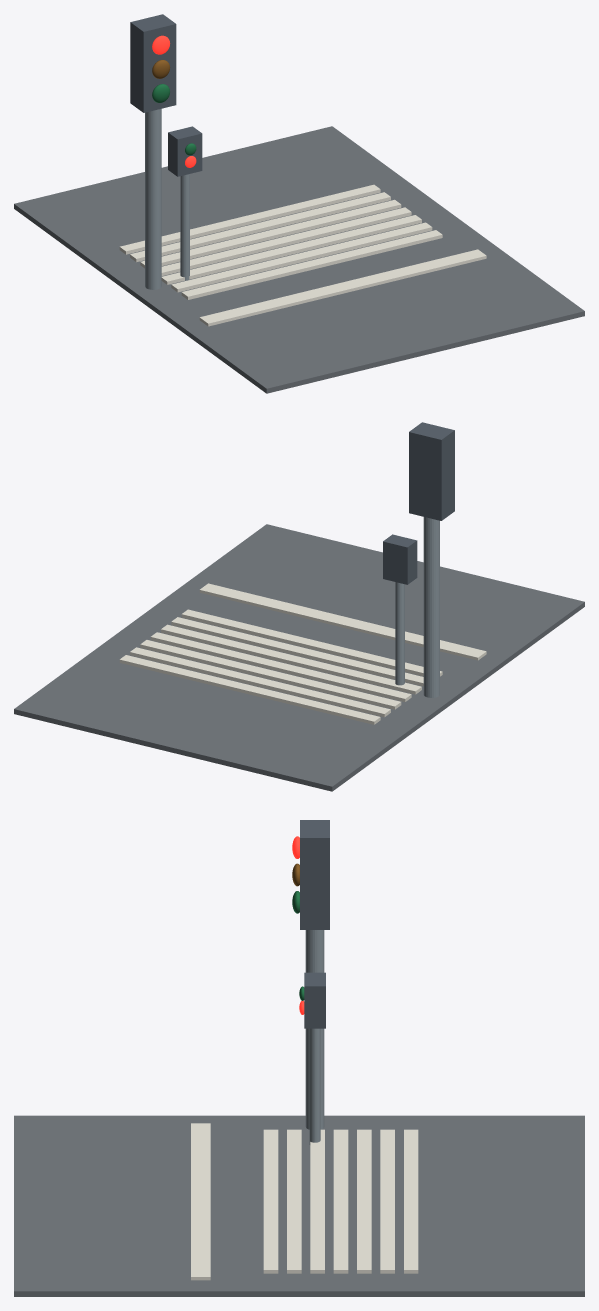
3 renders of one model, top to bottom at view 1: azimuth 30°, elevation 25°; view 2: azimuth 150°, elevation 25°; view 3: azimuth 270°, elevation 25°, orthographic. The views are drawn at different scales.
Parts seen in each view (by area): view 1: Arm_Road_Reference, Signal_Housing_SIGNAL_ARM_GENERIC, Stop_Line_SIGNAL_ARM, Signal_Mast_SIGNAL_ARM_GENERIC, Zebra_Stripe_SIGNAL_ARM.001, Zebra_Stripe_SIGNAL_ARM, Zebra_Stripe_SIGNAL_ARM.002, Zebra_Stripe_SIGNAL_ARM.003, Zebra_Stripe_SIGNAL_ARM.004, Zebra_Stripe_SIGNAL_ARM.006, Zebra_Stripe_SIGNAL_ARM.005, Ped_Housing_SIGNAL_ARM_GENERIC (+1 smaller); view 2: Arm_Road_Reference, Signal_Housing_SIGNAL_ARM_GENERIC, Stop_Line_SIGNAL_ARM, Signal_Mast_SIGNAL_ARM_GENERIC, Zebra_Stripe_SIGNAL_ARM.003, Zebra_Stripe_SIGNAL_ARM.004, Zebra_Stripe_SIGNAL_ARM.005, Zebra_Stripe_SIGNAL_ARM.006, Zebra_Stripe_SIGNAL_ARM.002, Zebra_Stripe_SIGNAL_ARM.001, Zebra_Stripe_SIGNAL_ARM, Ped_Housing_SIGNAL_ARM_GENERIC (+1 smaller); view 3: Arm_Road_Reference, Signal_Housing_SIGNAL_ARM_GENERIC, Stop_Line_SIGNAL_ARM, Zebra_Stripe_SIGNAL_ARM, Zebra_Stripe_SIGNAL_ARM.003, Zebra_Stripe_SIGNAL_ARM.001, Zebra_Stripe_SIGNAL_ARM.004, Zebra_Stripe_SIGNAL_ARM.005, Zebra_Stripe_SIGNAL_ARM.006, Zebra_Stripe_SIGNAL_ARM.002, Signal_Mast_SIGNAL_ARM_GENERIC, Ped_Post_SIGNAL_ARM_GENERIC (+1 smaller).
Boxes of the visible parts, x1,y1,x2,y2 form: Arm_Road_Reference: [14, 126, 584, 393]; Signal_Housing_SIGNAL_ARM_GENERIC: [130, 14, 176, 112]; Stop_Line_SIGNAL_ARM: [199, 249, 486, 326]; Signal_Mast_SIGNAL_ARM_GENERIC: [145, 109, 161, 289]; Zebra_Stripe_SIGNAL_ARM.001: [171, 222, 432, 292]; Zebra_Stripe_SIGNAL_ARM: [181, 230, 442, 299]; Zebra_Stripe_SIGNAL_ARM.002: [161, 215, 421, 284]; Zebra_Stripe_SIGNAL_ARM.003: [161, 207, 411, 275]; Zebra_Stripe_SIGNAL_ARM.004: [140, 199, 401, 268]; Zebra_Stripe_SIGNAL_ARM.006: [119, 184, 380, 254]; Zebra_Stripe_SIGNAL_ARM.005: [130, 192, 390, 262]; Ped_Housing_SIGNAL_ARM_GENERIC: [168, 126, 202, 176]; Arm_Road_Reference: [14, 524, 584, 791]; Signal_Housing_SIGNAL_ARM_GENERIC: [409, 422, 454, 520]; Stop_Line_SIGNAL_ARM: [199, 583, 486, 660]; Signal_Mast_SIGNAL_ARM_GENERIC: [423, 517, 439, 697]; Zebra_Stripe_SIGNAL_ARM.003: [150, 632, 411, 701]; Zebra_Stripe_SIGNAL_ARM.004: [140, 640, 401, 709]; Zebra_Stripe_SIGNAL_ARM.005: [130, 647, 390, 717]; Zebra_Stripe_SIGNAL_ARM.006: [119, 655, 380, 724]; Zebra_Stripe_SIGNAL_ARM.002: [161, 624, 421, 694]; Zebra_Stripe_SIGNAL_ARM.001: [171, 617, 423, 686]; Zebra_Stripe_SIGNAL_ARM: [181, 609, 442, 676]; Ped_Housing_SIGNAL_ARM_GENERIC: [383, 534, 417, 584]; Arm_Road_Reference: [14, 1115, 584, 1296]; Signal_Housing_SIGNAL_ARM_GENERIC: [300, 820, 329, 929]; Stop_Line_SIGNAL_ARM: [191, 1123, 210, 1280]; Zebra_Stripe_SIGNAL_ARM: [263, 1129, 278, 1273]; Zebra_Stripe_SIGNAL_ARM.003: [333, 1129, 348, 1273]; Zebra_Stripe_SIGNAL_ARM.001: [287, 1129, 301, 1273]; Zebra_Stripe_SIGNAL_ARM.004: [357, 1129, 371, 1273]; Zebra_Stripe_SIGNAL_ARM.005: [380, 1129, 394, 1273]; Zebra_Stripe_SIGNAL_ARM.006: [404, 1129, 418, 1273]; Zebra_Stripe_SIGNAL_ARM.002: [310, 1129, 324, 1273]; Signal_Mast_SIGNAL_ARM_GENERIC: [305, 930, 324, 1129]; Ped_Post_SIGNAL_ARM_GENERIC: [309, 1028, 320, 1144].
Size of the model in its own units: 8 by 6.44 by 11.
